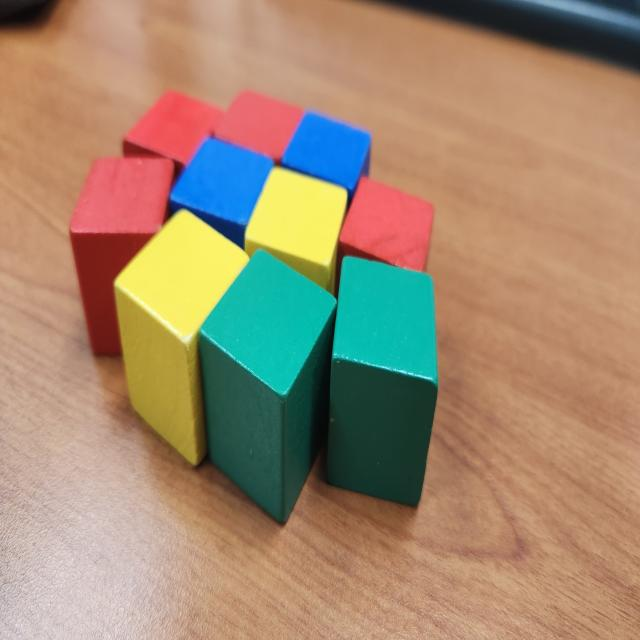blue: (163, 134, 275, 252), (278, 109, 376, 208)
green: (197, 246, 339, 525), (323, 254, 442, 508)
red: (66, 152, 180, 360), (337, 174, 438, 278), (122, 88, 228, 178), (214, 87, 306, 164)
yellow: (112, 210, 250, 470), (243, 166, 349, 302)
